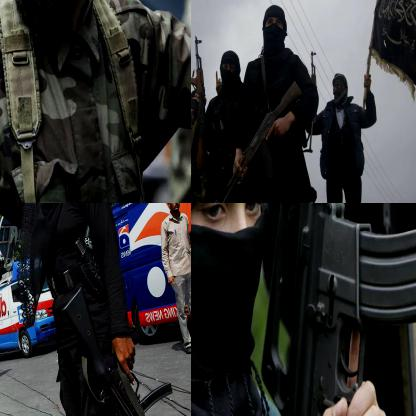rifle: (273, 203, 415, 415), (60, 286, 175, 415), (217, 81, 307, 202), (191, 33, 209, 172), (303, 52, 318, 150)
